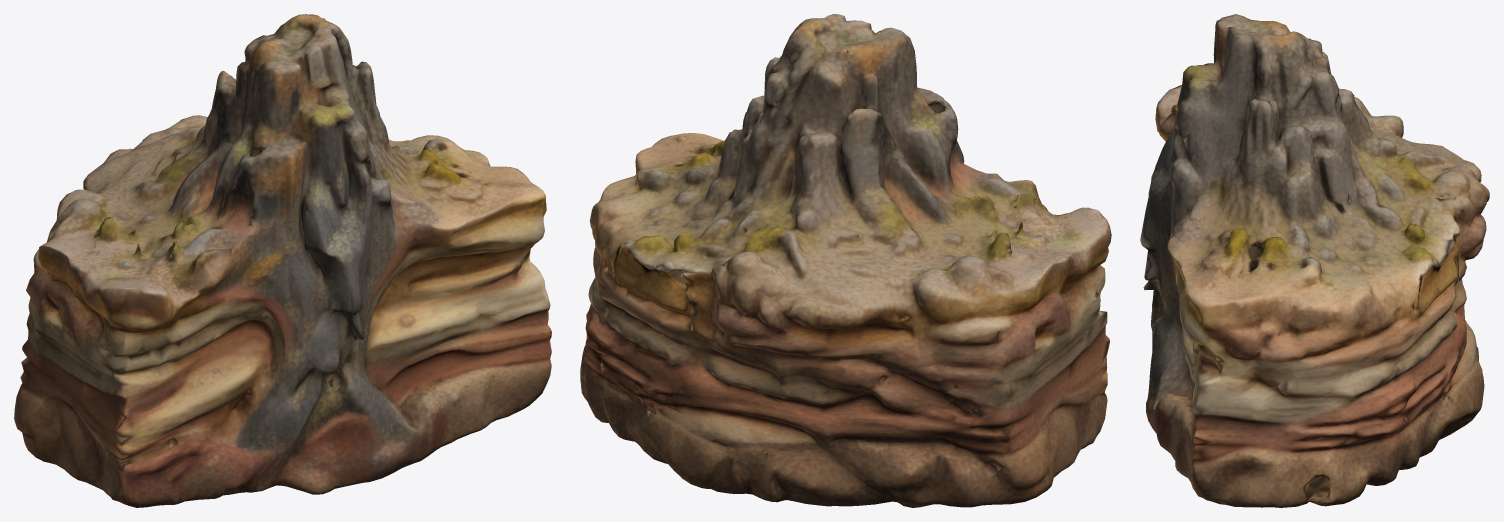
3 renders of one model, left to right at view 1: azimuth 30°, elevation 25°; view 2: azimuth 150°, elevation 25°; view 3: azimuth 270°, elevation 25°, orthographic. The views are drawn at different scales.
Visible parts, largest first — view 1: world; view 2: world; view 3: world.
Part boxes in pixels (x1=…): world: x1=14, y1=14, x2=551, y2=507; world: x1=580, y1=14, x2=1111, y2=507; world: x1=1140, y1=14, x2=1489, y2=507.
Size of the model in its own units: 25 by 21.01 by 16.71.
1 material, 1 textured.
